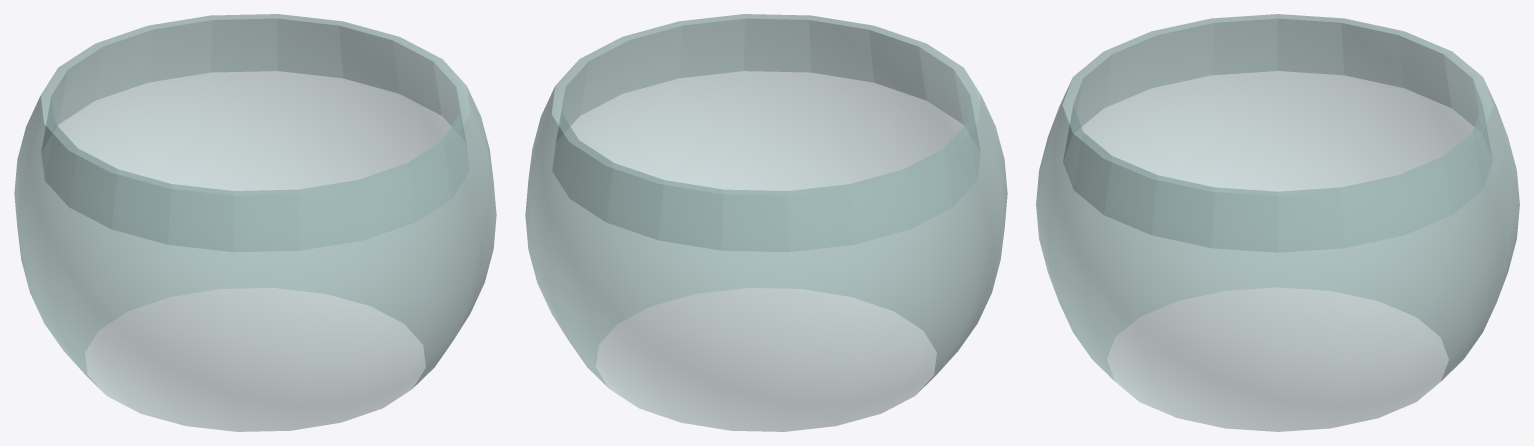
File: kom.fbx
3 renders of one model, left to right at view 1: azimuth 30°, elevation 25°; view 2: azimuth 150°, elevation 25°; view 3: azimuth 270°, elevation 25°, orthographic.
Parts seen in each view (by area): view 1: polySurface5; view 2: polySurface5; view 3: polySurface5.
Boxes of the visible parts, x1,y1,x2,y2 form: polySurface5: (14,14,496,431); polySurface5: (525,14,1007,431); polySurface5: (1036,14,1519,431).
Bounding box in the file's own units: 11 × 6.39 × 11.
